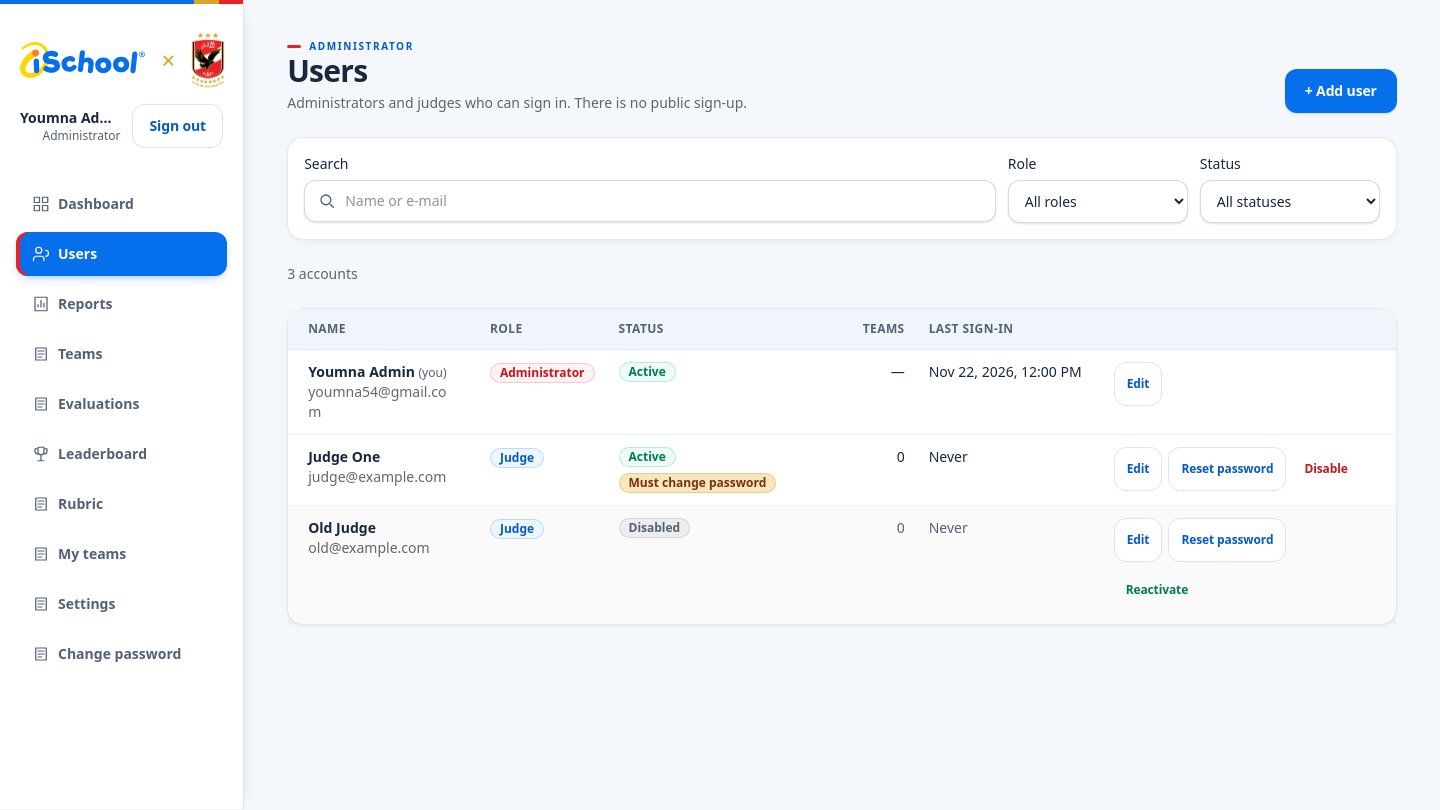
Scenario: Users page › asks for confirmation before disabling, then disables
Check: the table is shown, box [288,309,1396,624]
Click the button with aria-label "Disable Judge One" at (1326, 469), box [1292,447,1360,491]
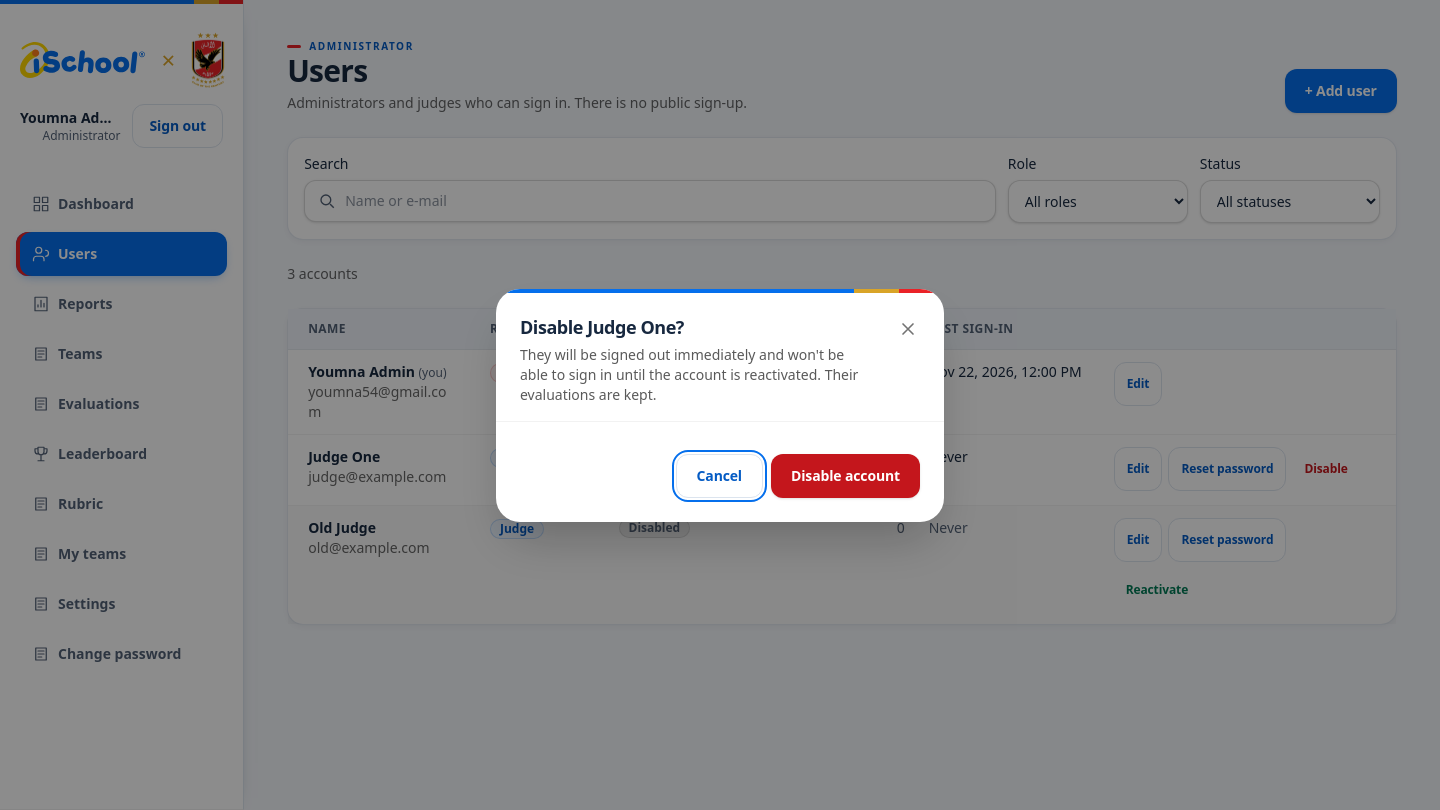
Check: the text "signed out immediately" is shown, box [520,344,858,404]
Click the button "Disable account" at (846, 476), box [771,454,920,498]
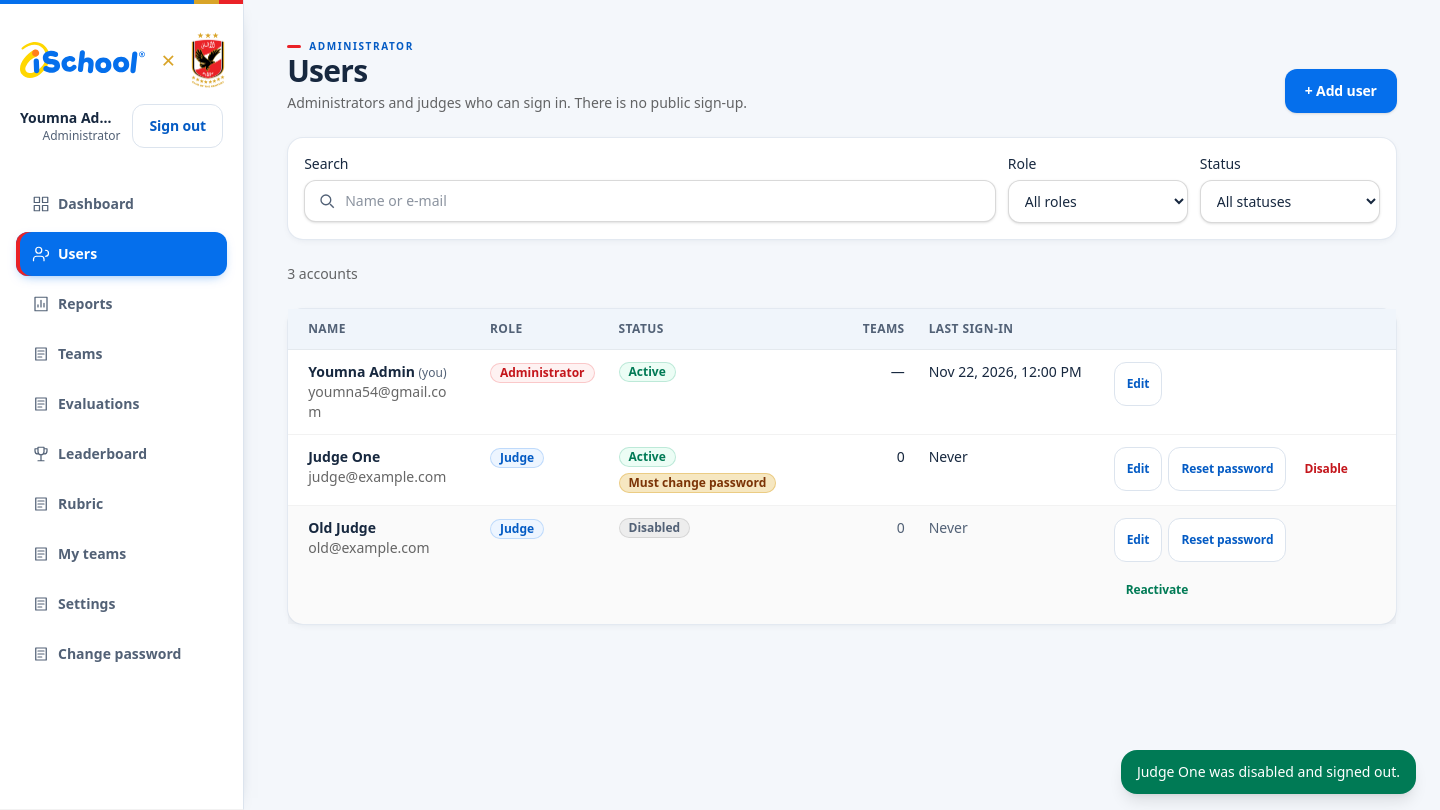
Check: the text "Judge One was disabled and signed out." is shown, box [1121,750,1416,794]
